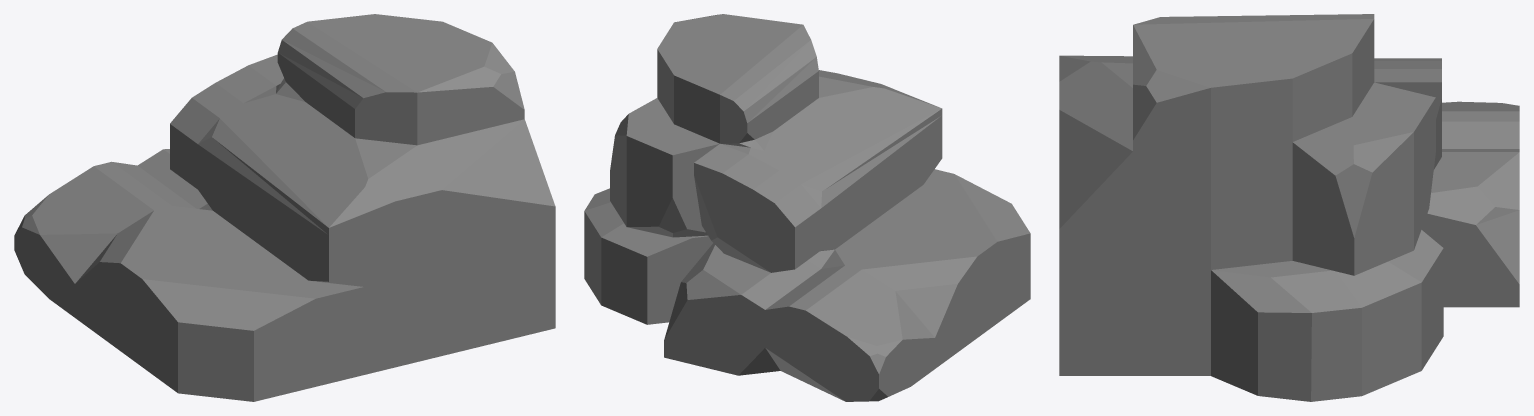
The model's file is stones01.fbx.
3 views of the same model, side by side, from view 1: azimuth 30°, elevation 25°; view 2: azimuth 150°, elevation 25°; view 3: azimuth 270°, elevation 25° (orthographic). The views are drawn at different scales.
Parts seen in each view (by area): view 1: stones01_LOD0; view 2: stones01_LOD0; view 3: stones01_LOD0.
Part boxes in pixels (x1,y1,x2,y2): stones01_LOD0: (14,14,555,401); stones01_LOD0: (584,14,1030,401); stones01_LOD0: (1059,14,1519,401).
Size of what is drawn, in the model's own units: 174 by 101 by 146.
